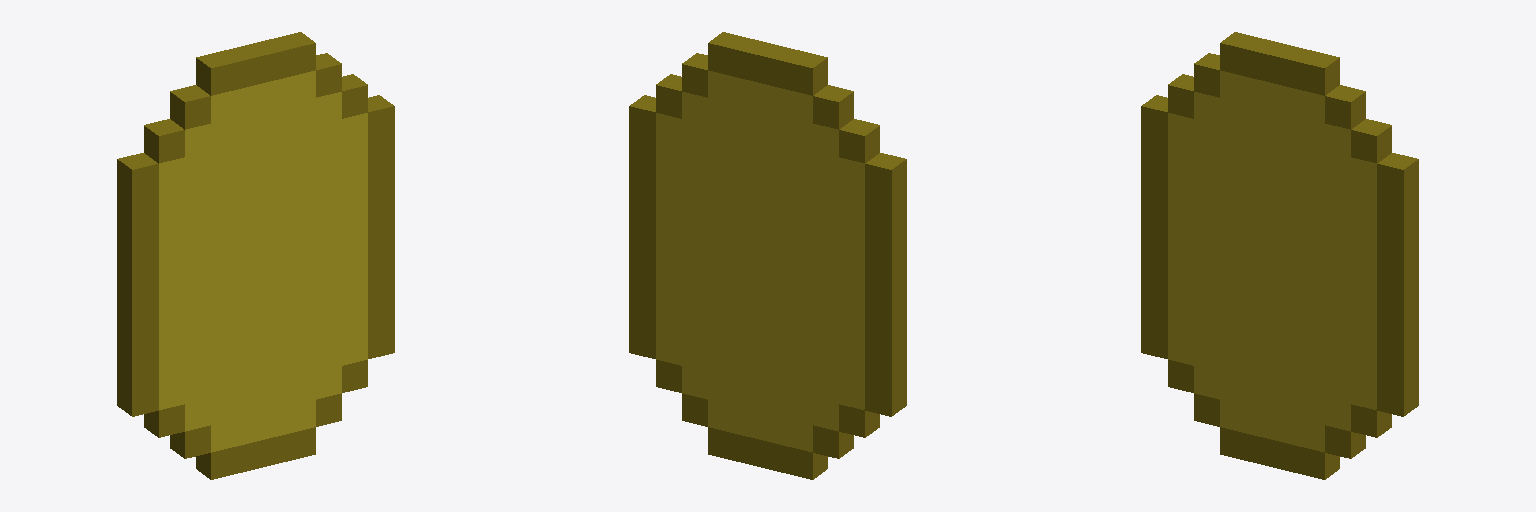
The picture shows the model from 3 angles: view 1: azimuth 30°, elevation 25°; view 2: azimuth 150°, elevation 25°; view 3: azimuth 330°, elevation 25°; orthographic projection.
Visible parts, largest first — view 1: object 1; view 2: object 1; view 3: object 1.
Boxes of the visible parts, x1,y1,x2,y2 form: object 1: [117, 32, 394, 479]; object 1: [629, 32, 906, 479]; object 1: [1141, 32, 1418, 479].
Size of the model in its own units: 1 by 1.5 by 0.1.
Materials: 1 (1 with a texture image).